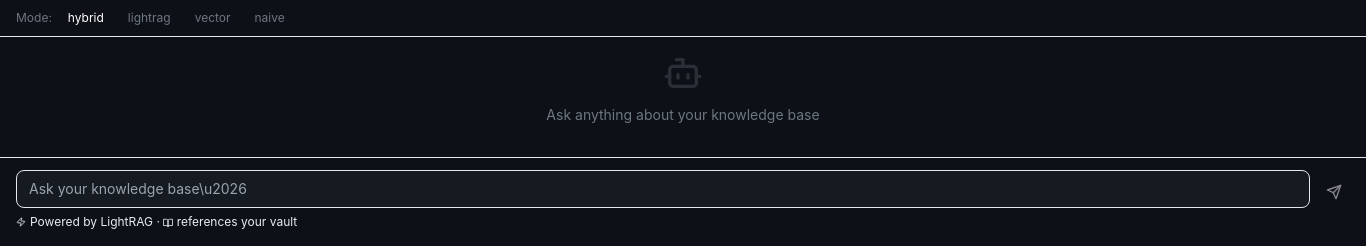
Test case: AIChat (legacy fetch-based) — render › Send button is enabled after typing
The width and height of the screenshot is (1366, 246).
Type "What is EEG?" into the text box with placeholder "Ask your knowledge base\\u2026". click: (663, 189)
box: x1=16 y1=170 x2=1310 y2=208
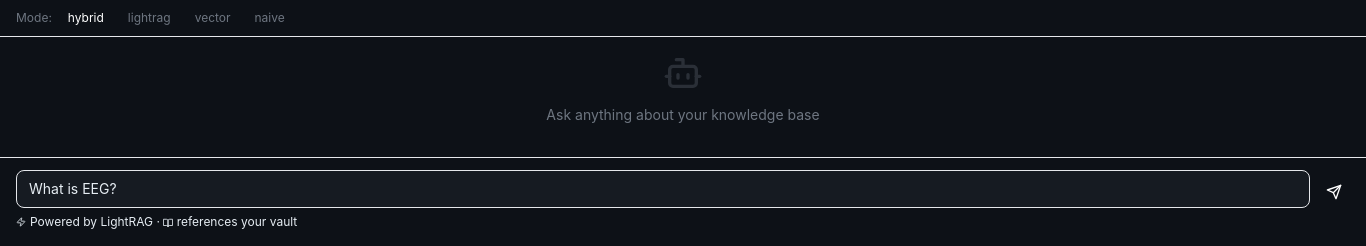
Expected: the 5th button is enabled, x1=1318 y1=176 x2=1350 y2=208
